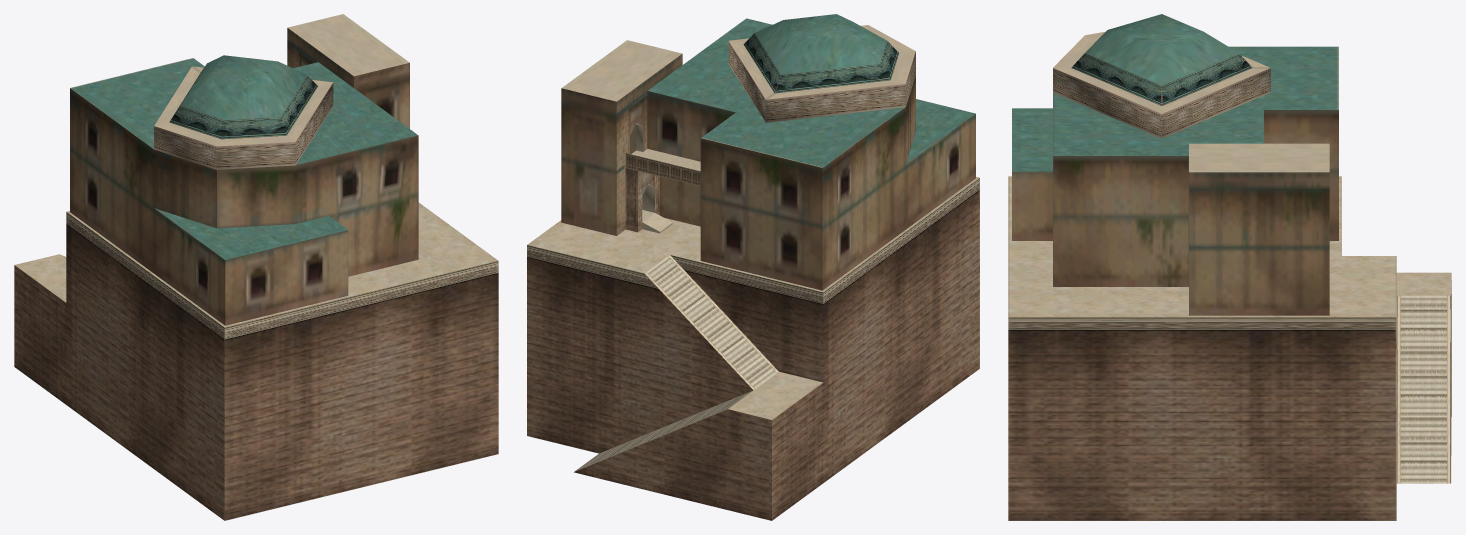
The model's file is ply_nboo_house_m_s01_fp1_r0_mesh_l3.fbx.
The picture shows the model from 3 angles, left to right: view 1: azimuth 30°, elevation 25°; view 2: azimuth 150°, elevation 25°; view 3: azimuth 270°, elevation 25°; orthographic projection. The views are drawn at different scales.
Visible parts, largest first — view 1: mesh_node; view 2: mesh_node; view 3: mesh_node.
Boxes of the visible parts, x1,y1,x2,y2 form: mesh_node: [14, 14, 498, 520]; mesh_node: [527, 14, 979, 520]; mesh_node: [1008, 14, 1451, 520].
Size of the model in its own units: 24.45 by 32.04 by 32.53.
